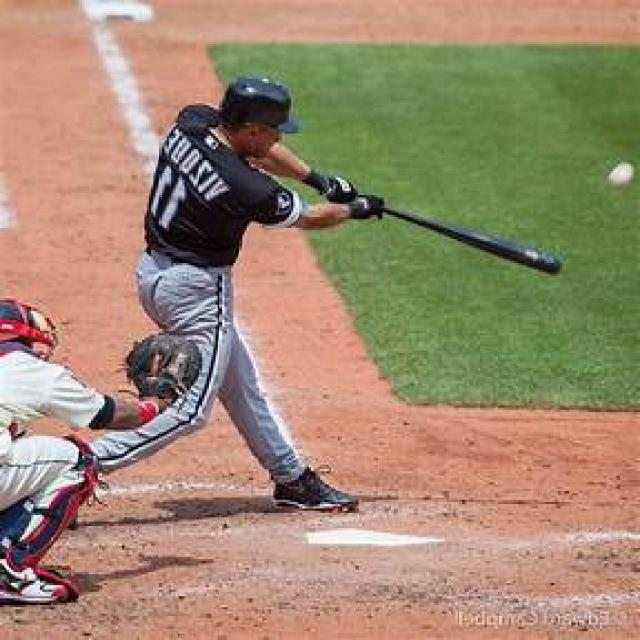bat: (378, 203, 566, 280)
